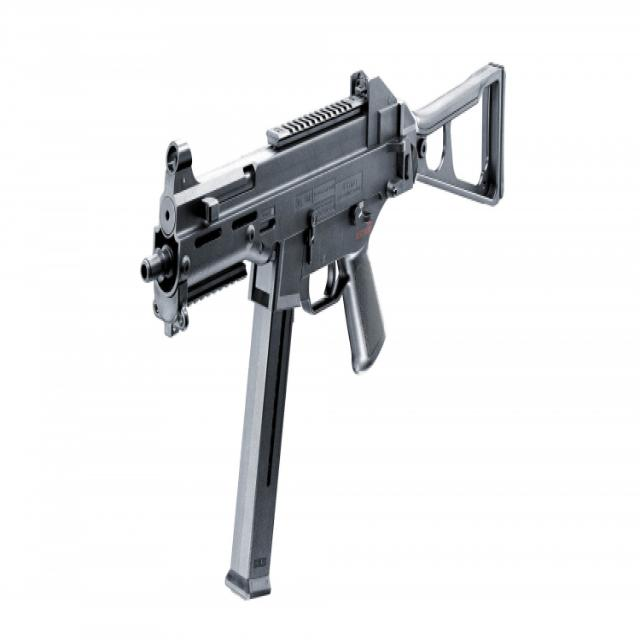SMG: (140, 64, 506, 604)
